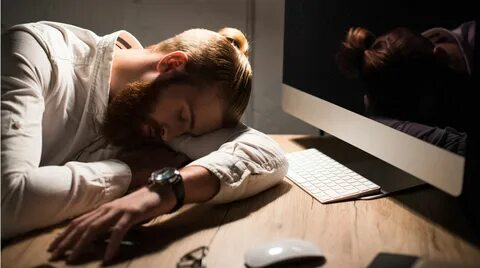sleep: (1, 25, 280, 227)
